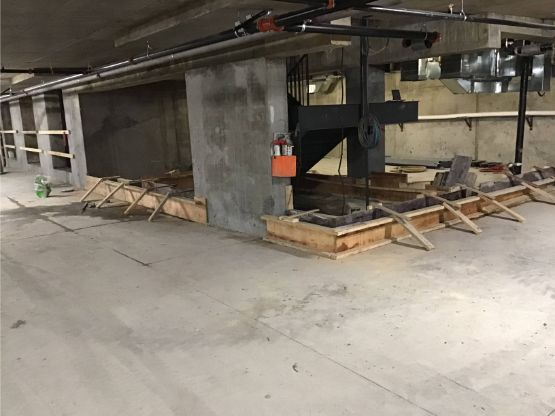Duct: (396, 49, 555, 100)
